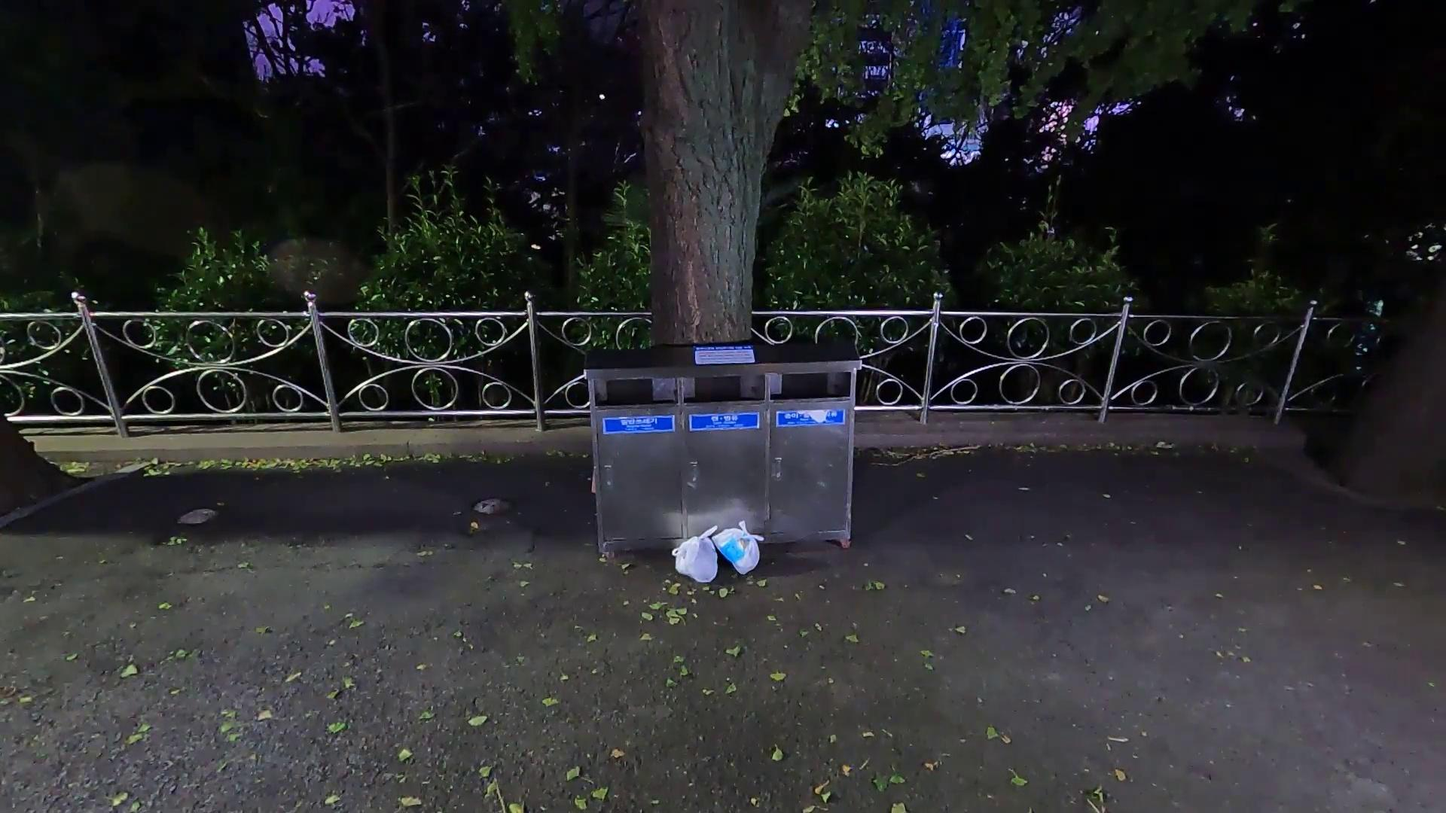trash: (709, 518, 768, 578), (673, 525, 721, 584)
